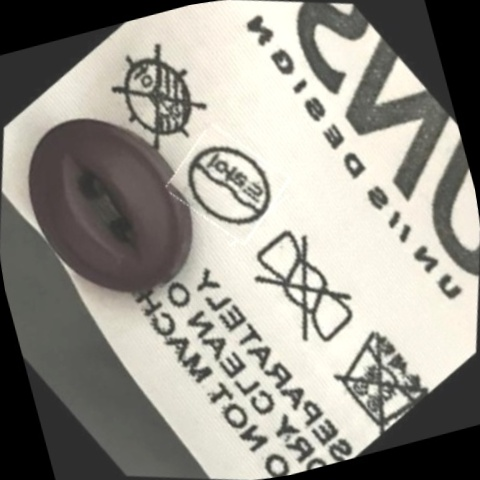DN_dry: (84, 23, 233, 172)
DN_wring: (220, 206, 387, 373)
dry_clean: (160, 117, 296, 254)
hand_wash: (307, 300, 451, 450)
